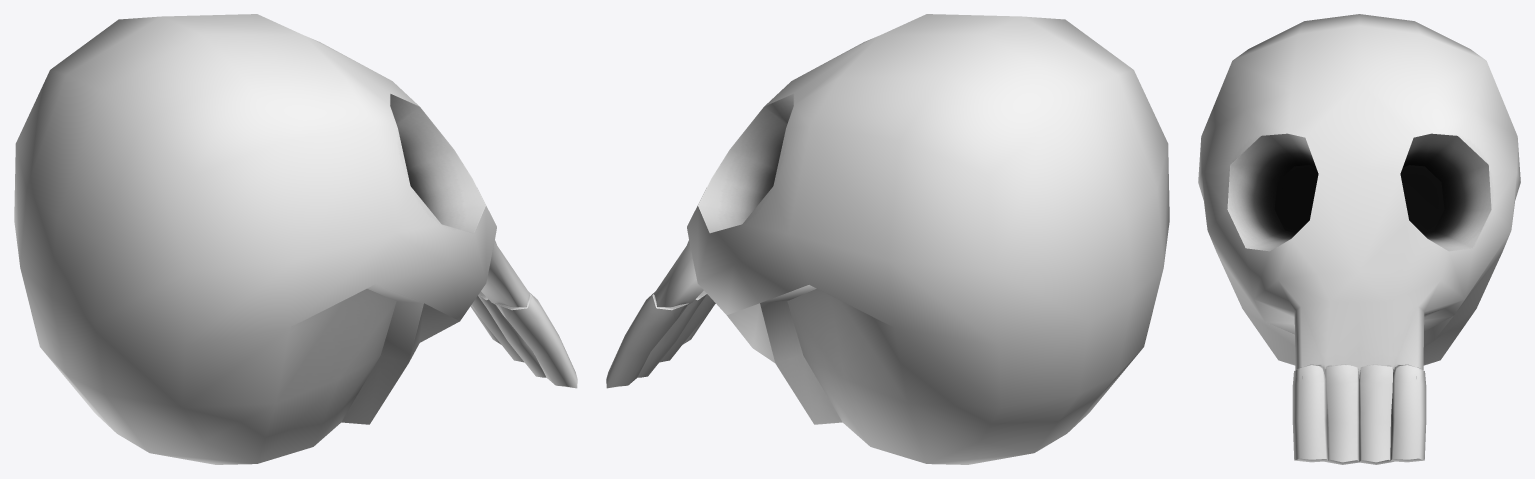
File: skeletonHead.fbx
The picture shows the model from 3 angles, left to right: view 1: azimuth 30°, elevation 25°; view 2: azimuth 150°, elevation 25°; view 3: azimuth 270°, elevation 25°; orthographic projection. The views are drawn at different scales.
Parts seen in each view (by area): view 1: skeletonHead_geo; view 2: skeletonHead_geo; view 3: skeletonHead_geo.
Part boxes in pixels (box(x1,y1,x2,y2)): skeletonHead_geo: box(14, 14, 577, 464); skeletonHead_geo: box(606, 14, 1169, 464); skeletonHead_geo: box(1198, 14, 1520, 464).
Size of the model in its own units: 62.35 by 50.2 by 46.04.
1 material, 1 textured.
